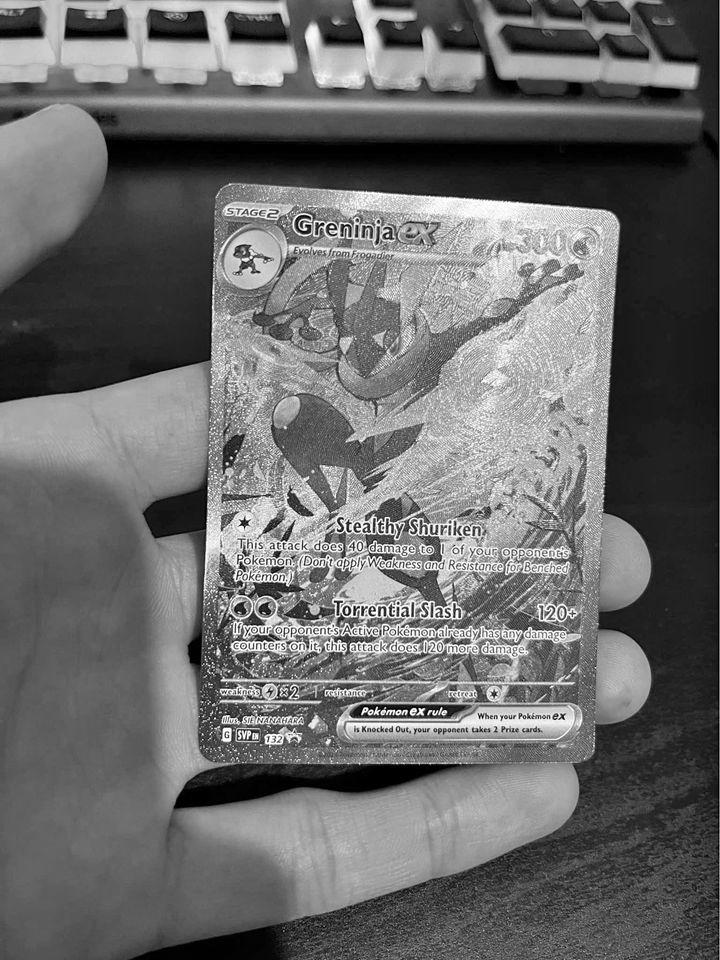card: (198, 181, 622, 764)
